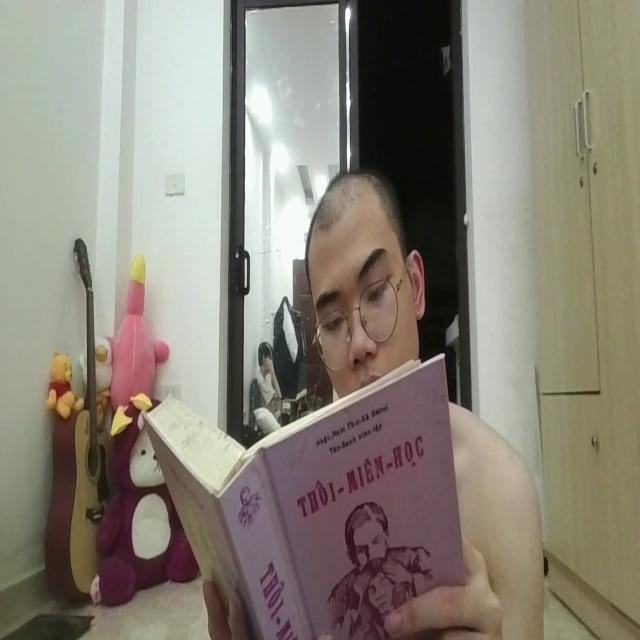book: (140, 356, 465, 638)
extra_person: (244, 334, 282, 418)
student: (302, 164, 424, 376)
